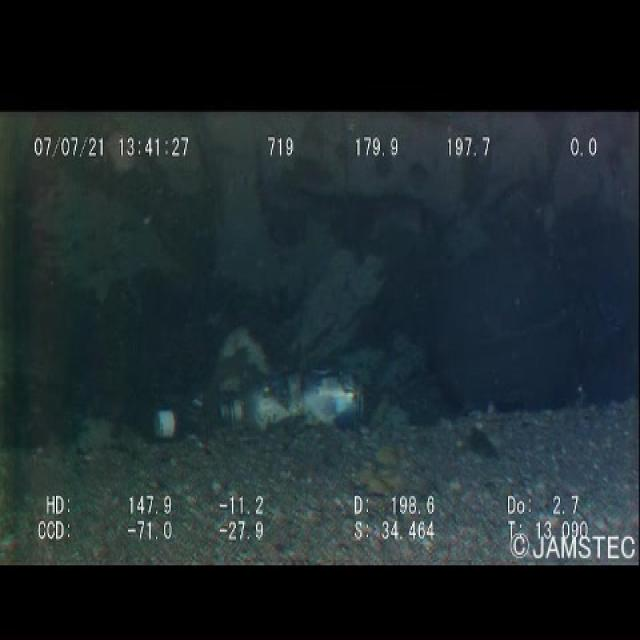plastic: (146, 384, 213, 453)
